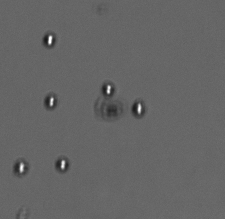Dead Cell: (98, 99, 124, 121)
Living Cell: (13, 159, 30, 177), (54, 156, 70, 173), (42, 31, 57, 49), (132, 99, 146, 118), (43, 93, 58, 110), (101, 80, 116, 97)
